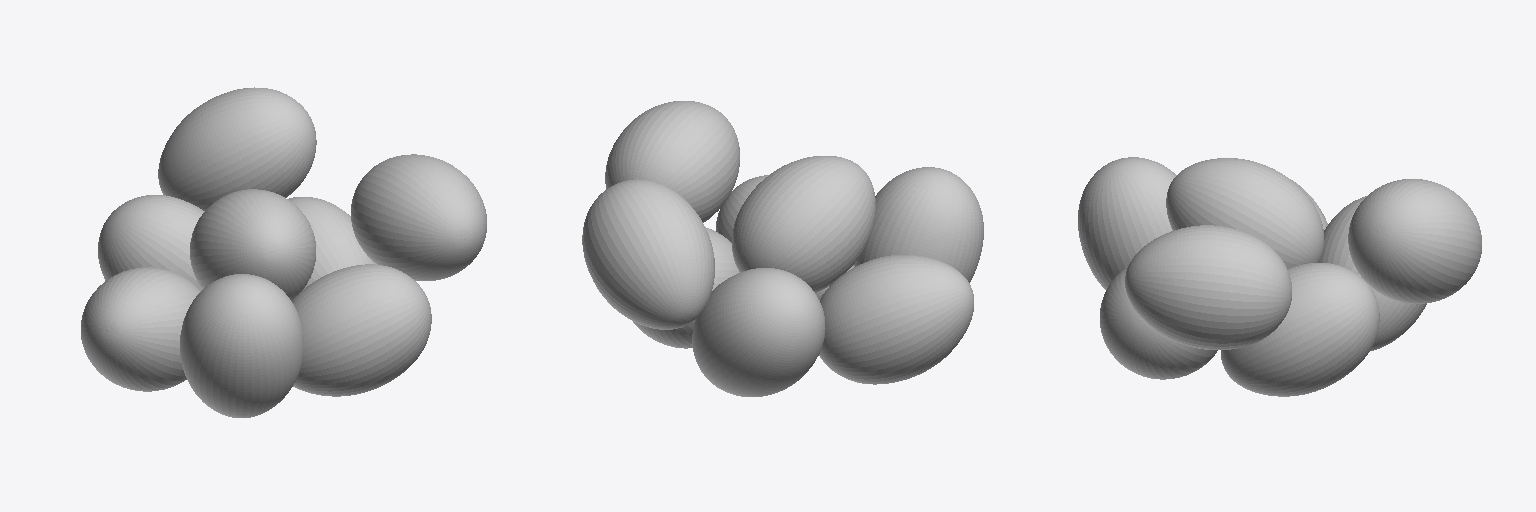
File: eggs.obj
3 views of the same model, side by side, from view 1: azimuth 30°, elevation 25°; view 2: azimuth 150°, elevation 25°; view 3: azimuth 270°, elevation 25° (orthographic).
Visible parts, largest first — view 1: the_eggs; view 2: the_eggs; view 3: the_eggs.
Part boxes in pixels (x1,y1,x2,y2): the_eggs: (81,87,486,417); the_eggs: (582,101,983,396); the_eggs: (1078,157,1481,396).
Size of the model in its own units: 2.9 by 1.53 by 2.78.